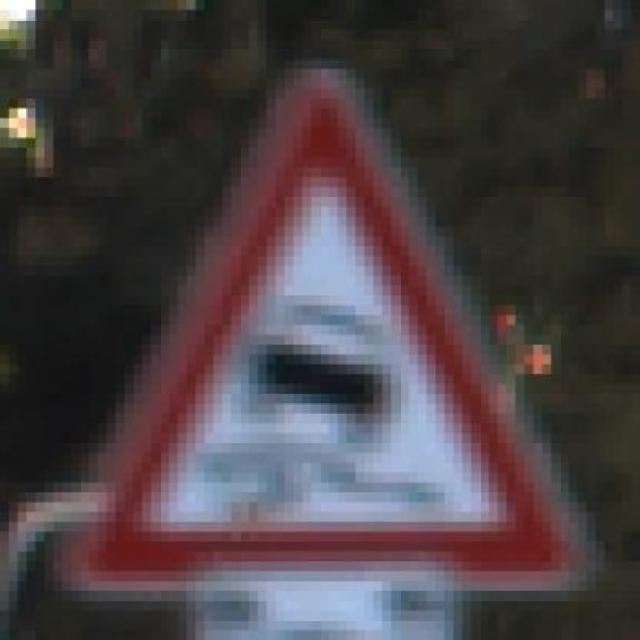Slippery Road Ahead: (61, 59, 604, 610)
